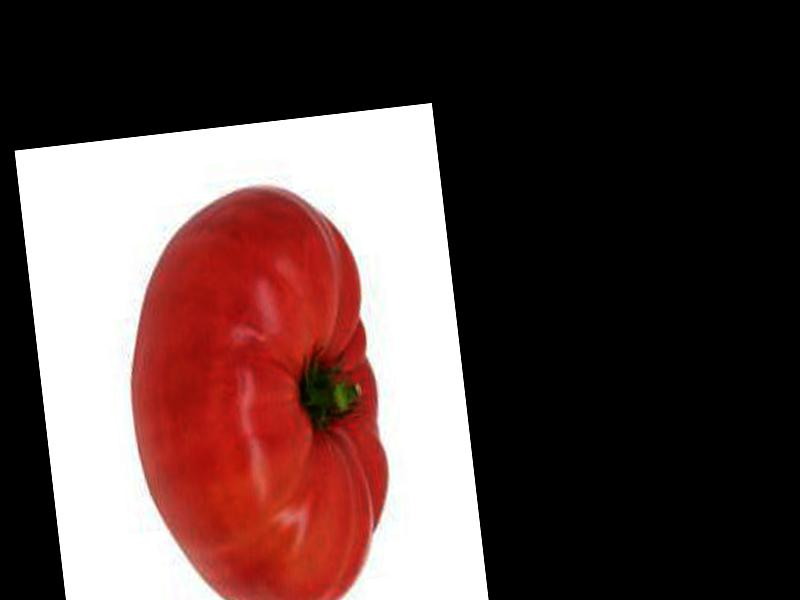Tomato: (111, 178, 397, 600)
